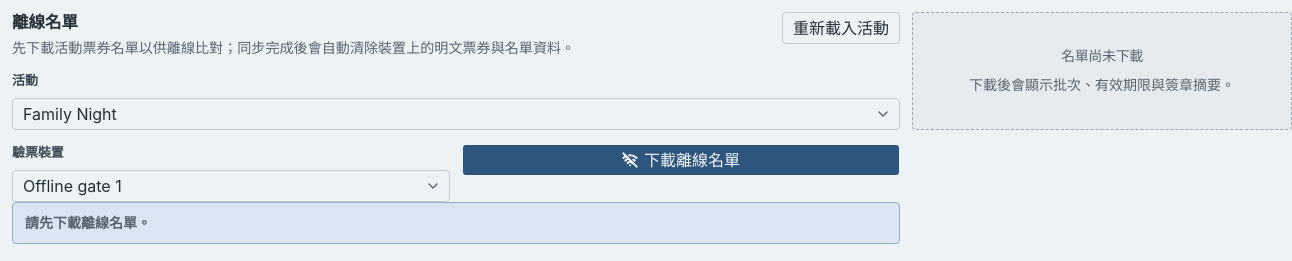
Test: OfflinePackageStep — download flow › surfaces an error message when the download fails
Expected: the text "Family Night" is shown, x1=23 y1=102 x2=117 y2=126
Click the button "下載離線名單" at (681, 160), box x1=462 y1=144 x2=900 y2=176
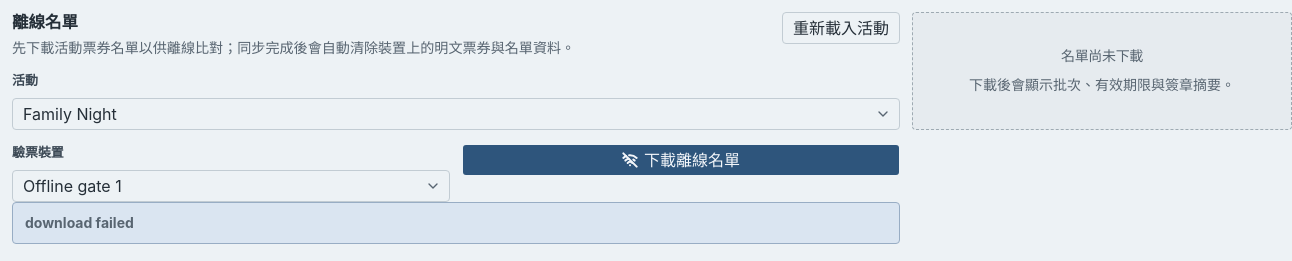
Now the text "download failed" is shown, box x1=25 y1=214 x2=134 y2=231
